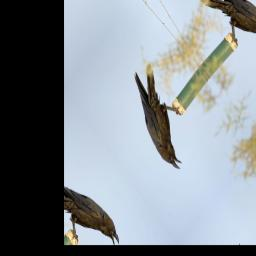Crow: (114, 57, 205, 179)
